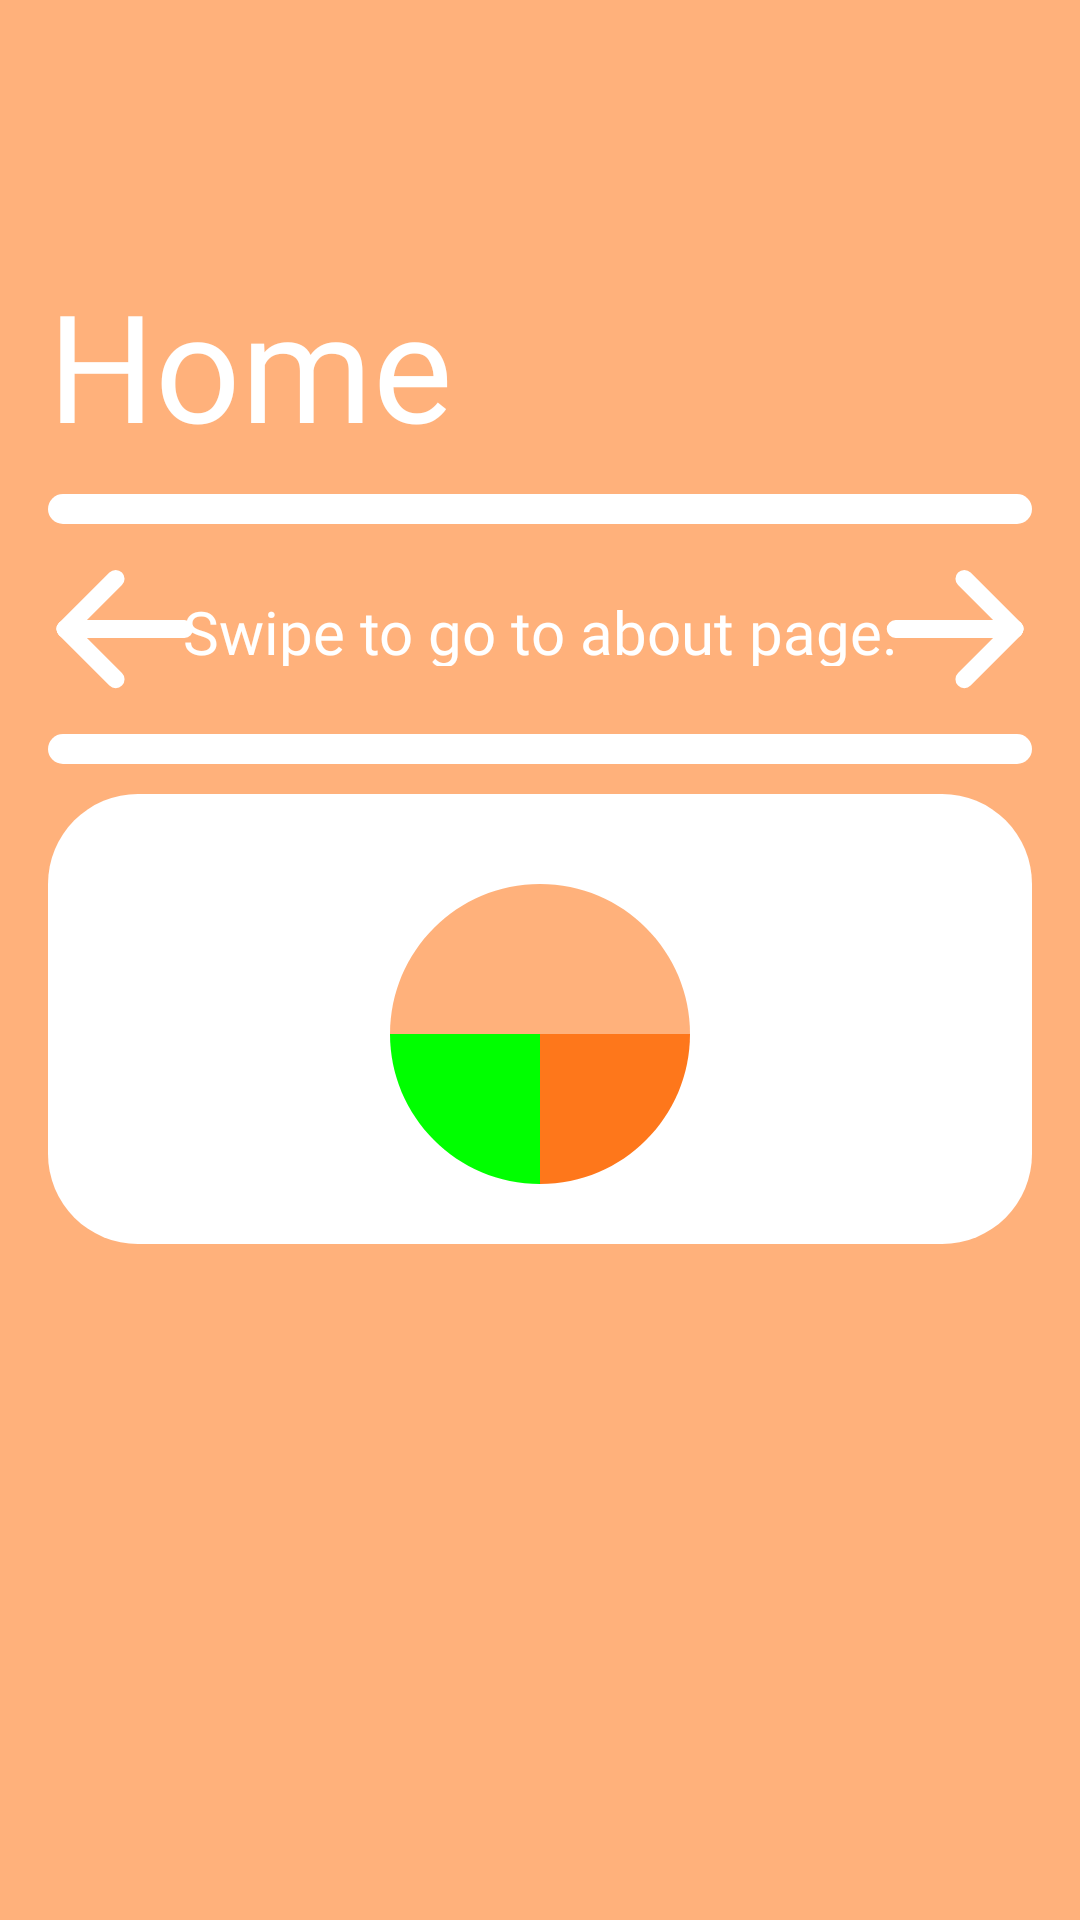

Named icons in this screenshot (1080 × 1920) and their bounding boxes, (x1, y1, x2, y2):
left: (56, 570, 198, 689)
right: (886, 570, 1024, 689)
